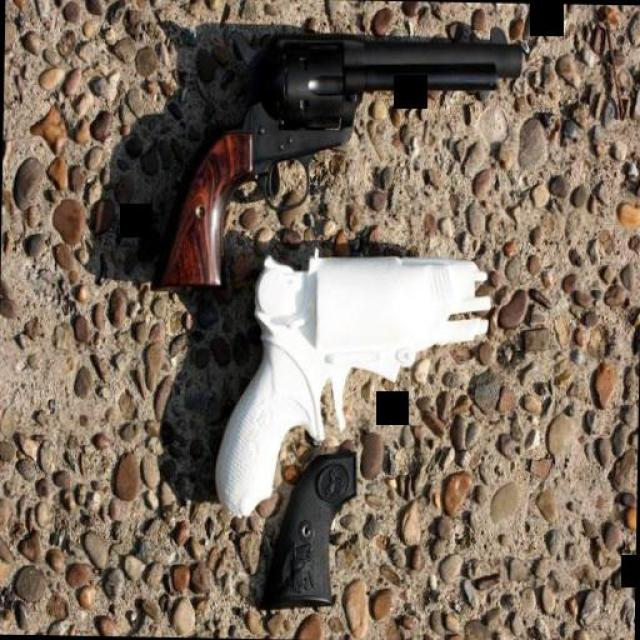gun: (141, 12, 521, 308), (198, 230, 498, 530)
